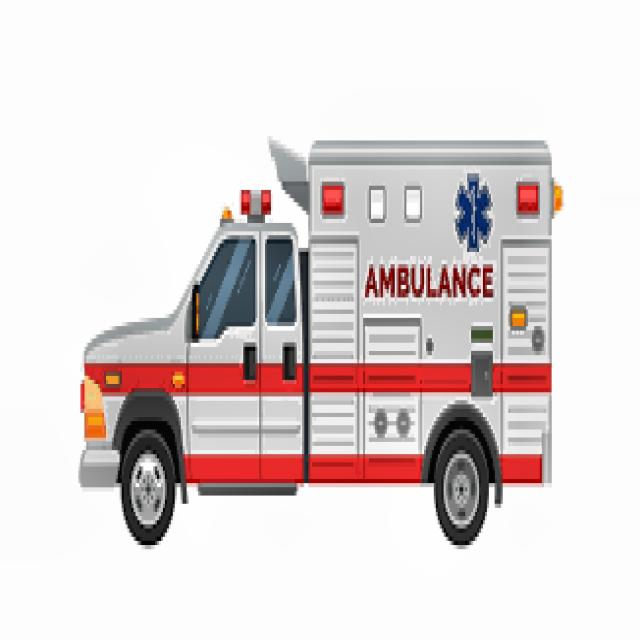Ambulance: (80, 140, 550, 541)
